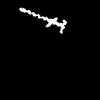double_crochet: (20, 8, 66, 32)
